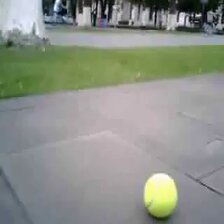tennis: (142, 173, 178, 218)
